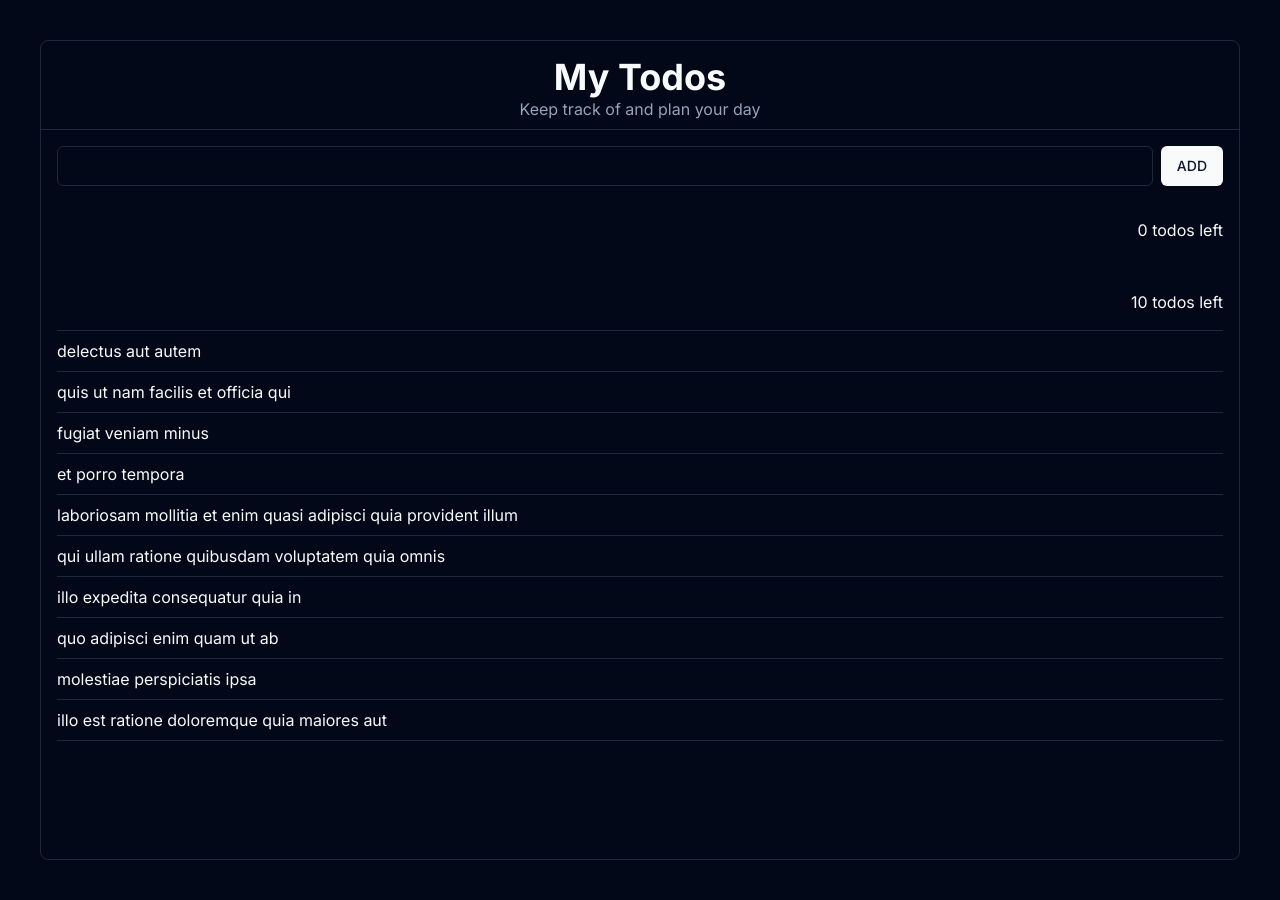
Home › integration test if possible to add and remove todos › should render a todo for each submit
Type "todo 1" into the field named "todo-title-input" at x=605, y=166, box [57,146,1153,186]
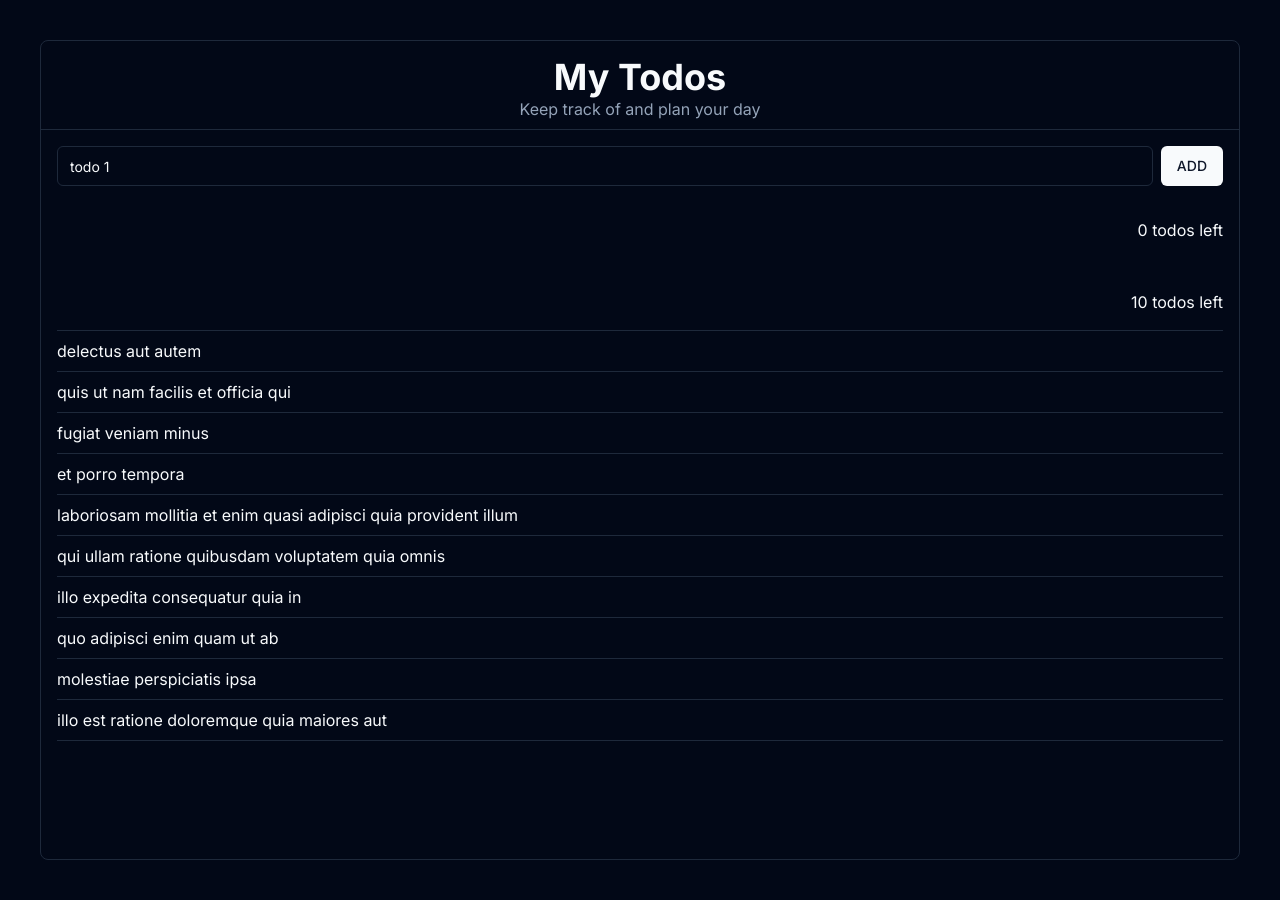
Submit the form, box [57,146,1223,186]
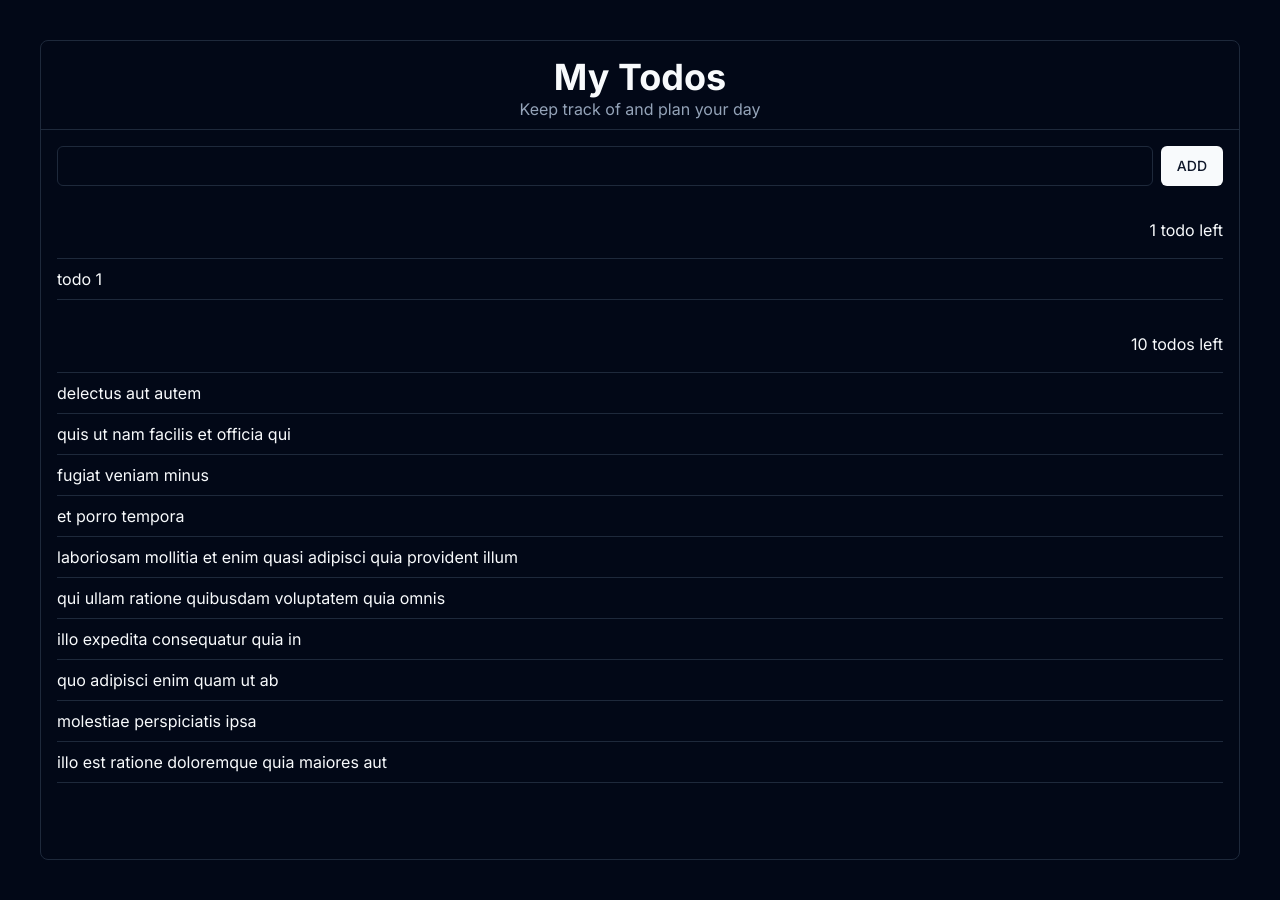
Type "todo 2" into the field named "todo-title-input" at x=605, y=166, box [57,146,1153,186]
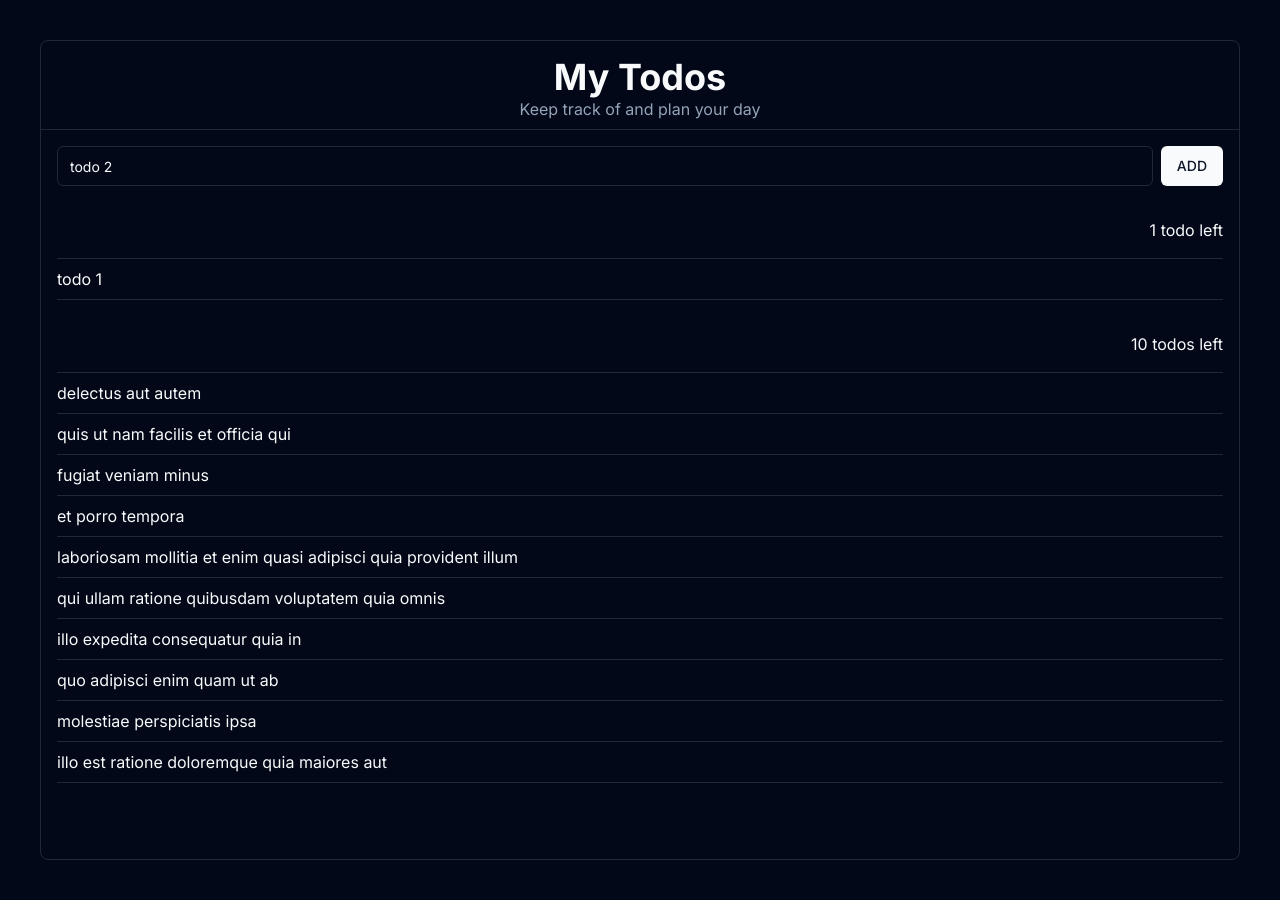
Submit the form, box [57,146,1223,186]
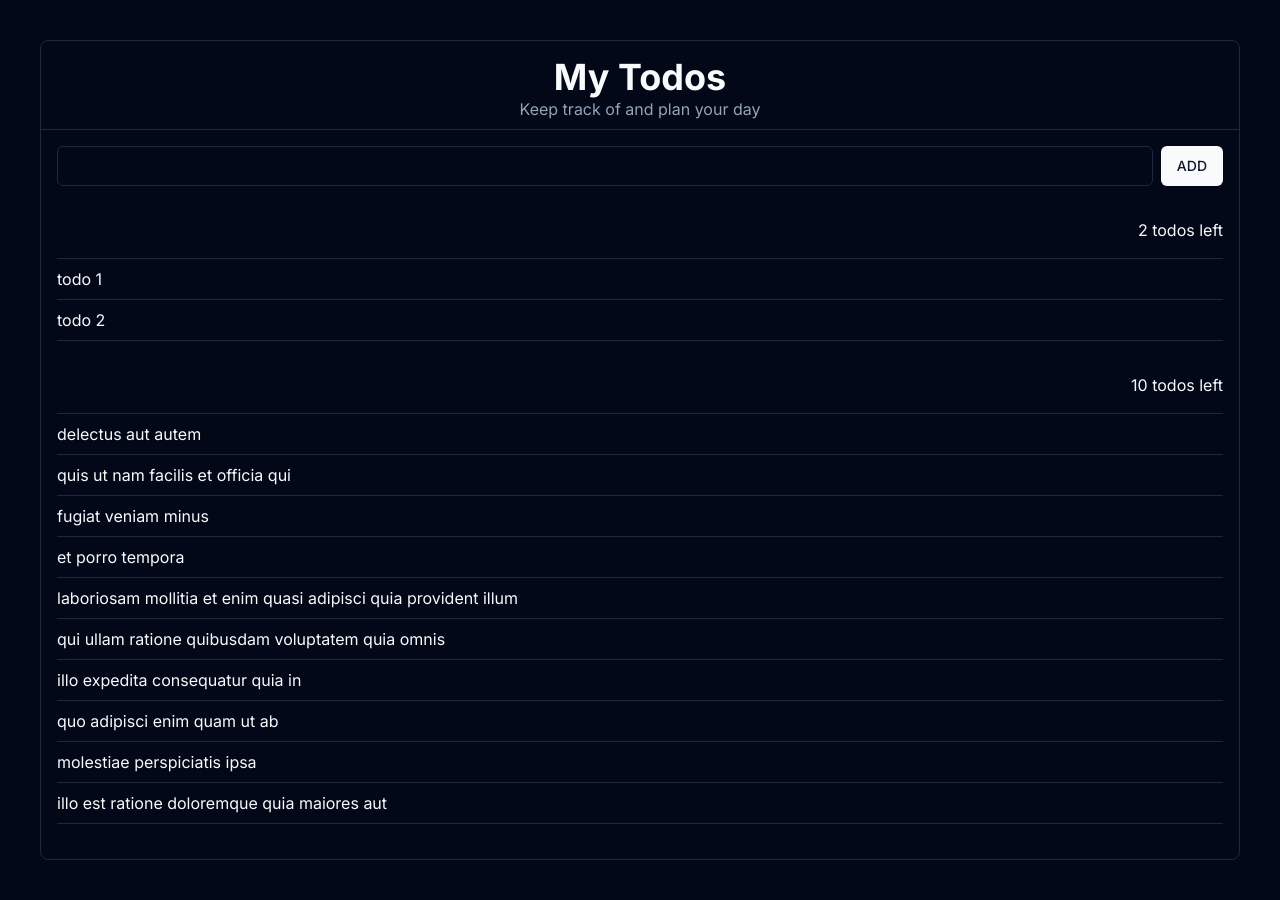
Type "todo 3" into the field named "todo-title-input" at x=605, y=166, box [57,146,1153,186]
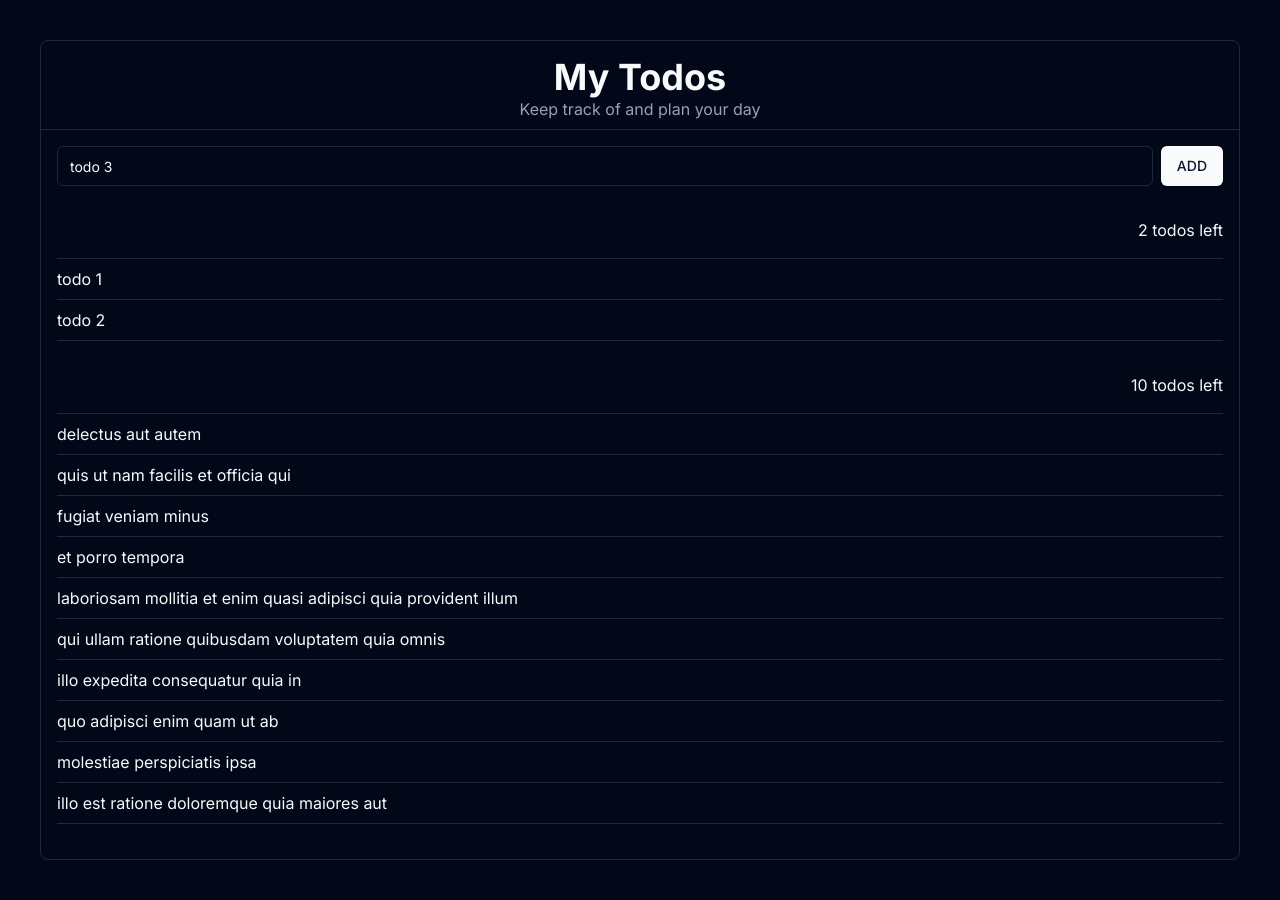
Submit the form, box [57,146,1223,186]
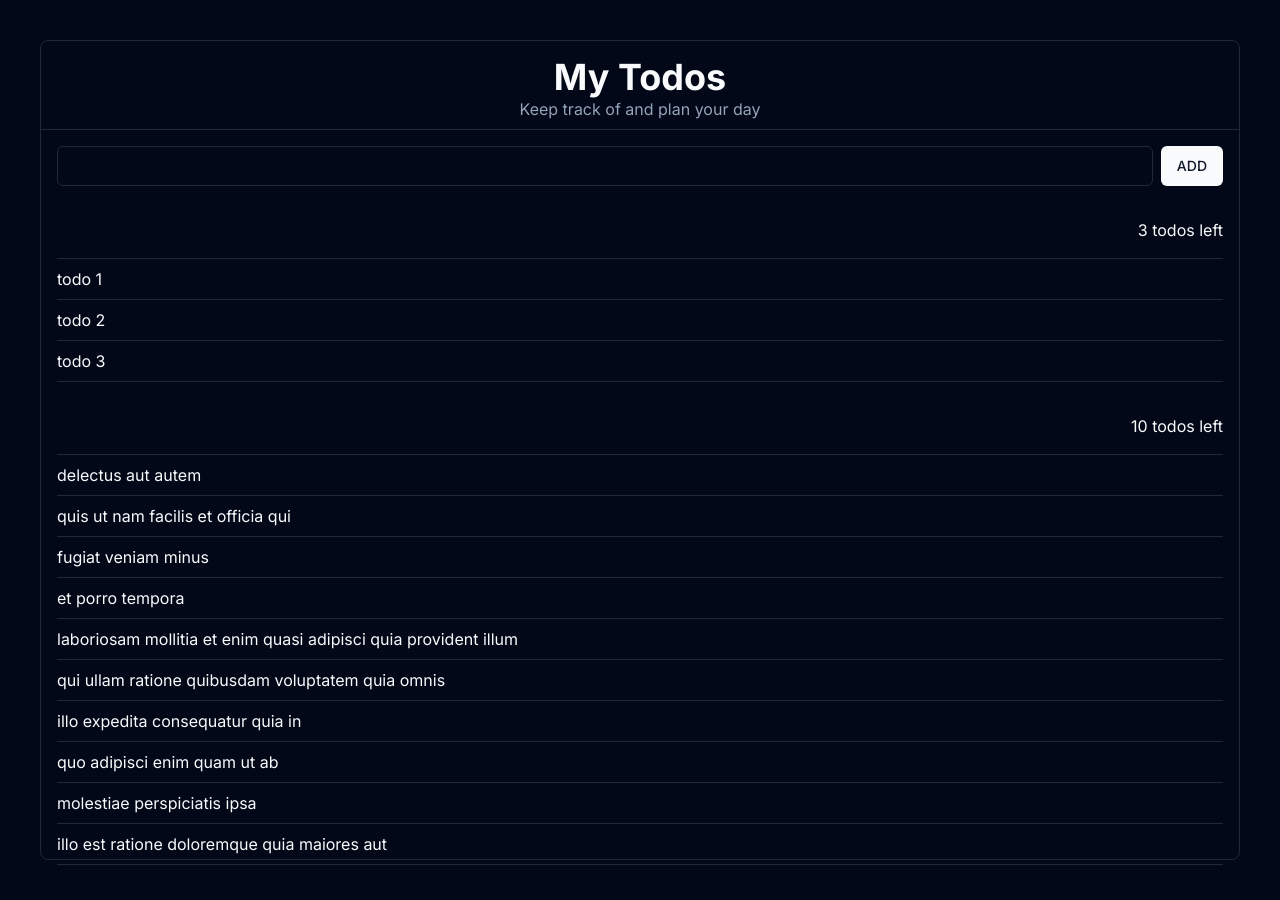
Expected: the number of elements with test id "todo-element" is 3, [57,258,1223,300]; [57,300,1223,341]; [57,341,1223,382]
